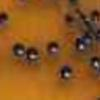black: (56, 62, 74, 82), (26, 45, 45, 63), (44, 37, 59, 54), (89, 53, 100, 73), (12, 42, 24, 58), (74, 37, 85, 53), (80, 34, 94, 46), (0, 11, 9, 26), (64, 14, 74, 26), (93, 26, 100, 40)
